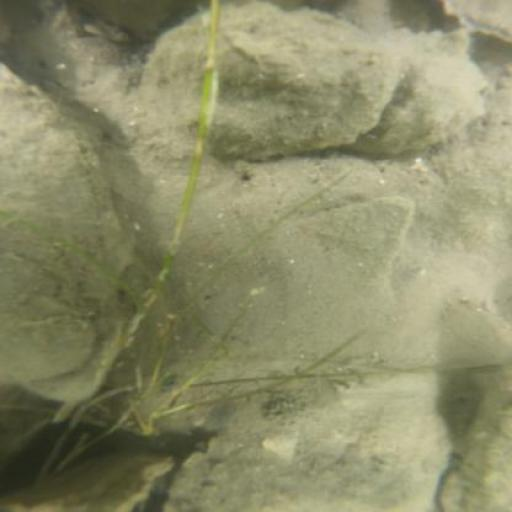Oyster-Closed: (158, 359, 449, 508), (143, 6, 393, 155), (350, 25, 485, 157), (2, 449, 177, 512), (442, 396, 512, 510)
Oyster-Open: (3, 63, 128, 394)
